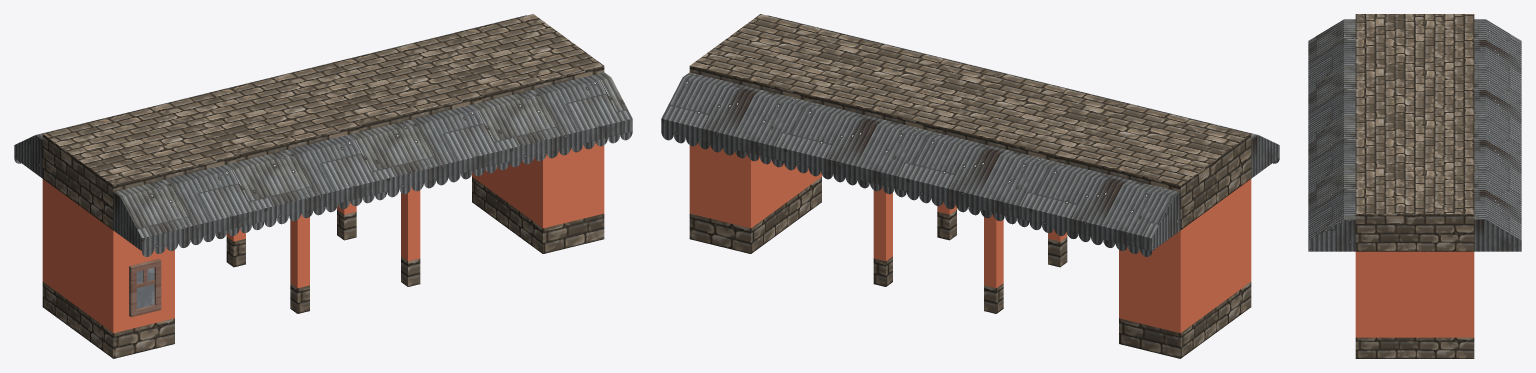
The model's file is wall1.fbx.
The picture shows the model from 3 angles, left to right: view 1: azimuth 30°, elevation 25°; view 2: azimuth 150°, elevation 25°; view 3: azimuth 270°, elevation 25°; orthographic projection. The views are drawn at different scales.
Visible parts, largest first — view 1: block_low, awning (×5), block (×2), columns_large (×2), window_detail; view 2: block_low, awning (×5), block (×2), columns_large (×2); view 3: block_low, awning (×8), block.
Boxes of the visible parts, box(x1,y1,x2,y2) form: block_low: box(42, 14, 604, 229); awning (×5): box(14, 72, 632, 256); block (×2): box(42, 141, 604, 358); columns_large (×2): box(226, 186, 420, 313); window_detail: box(129, 259, 161, 317); block_low: box(689, 14, 1251, 229); awning (×5): box(661, 72, 1279, 256); block (×2): box(689, 141, 1251, 358); columns_large (×2): box(873, 186, 1067, 313); block_low: box(1355, 14, 1474, 251); awning (×8): box(1308, 19, 1521, 251); block: box(1355, 251, 1474, 358).
Bounding box in the file's own units: 40 × 13.51 × 18.
